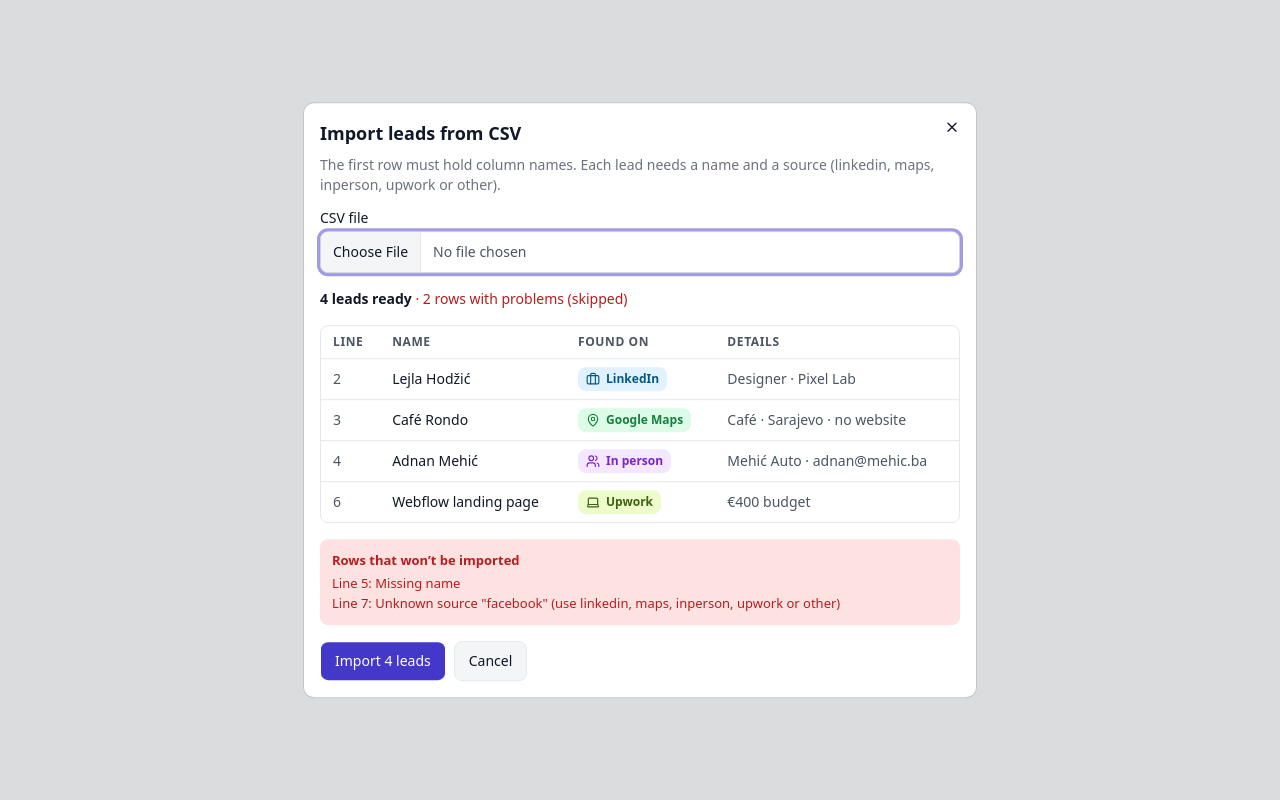
Test case: CsvImportDialog › shows an import error
This screenshot has width=1280, height=800.
Click the button "Import 4 leads": click(383, 661) [320,641,446,681]
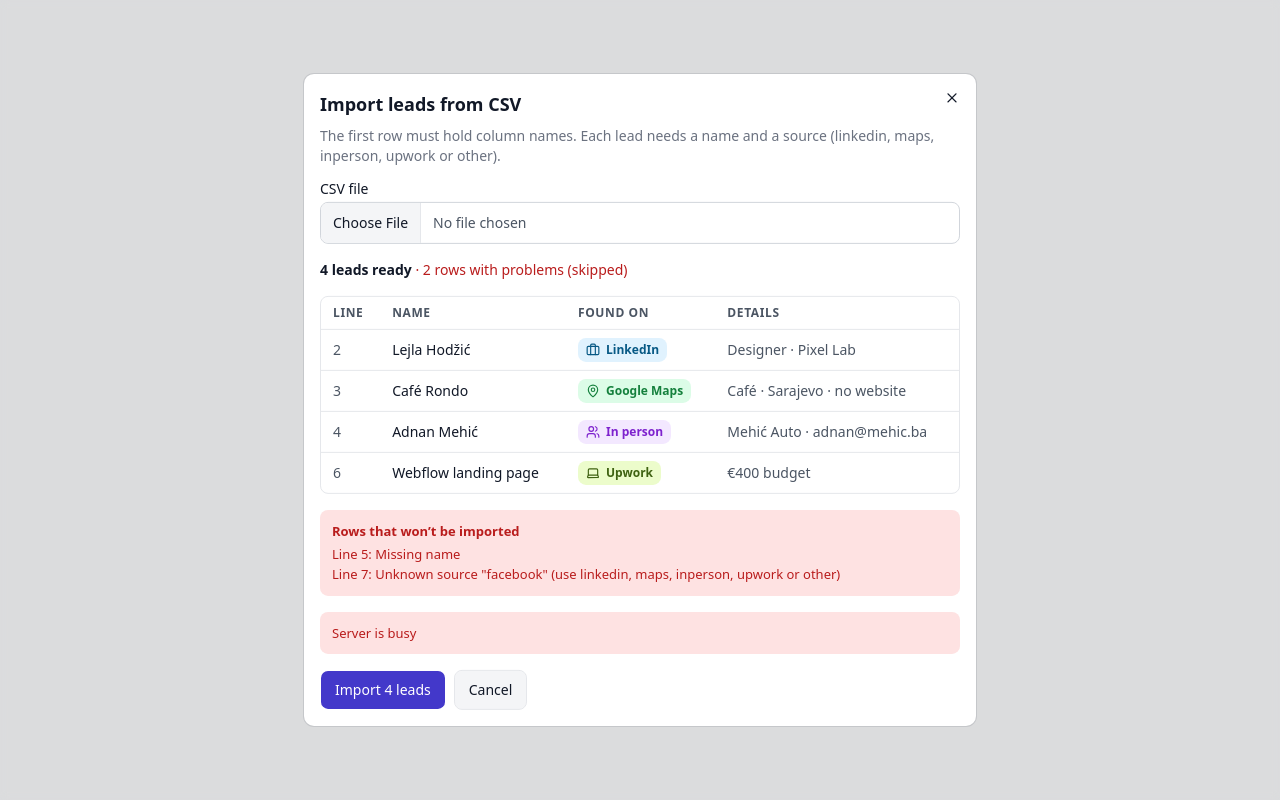
Now the message reads "Server is busy", box [332,624,416,642]
